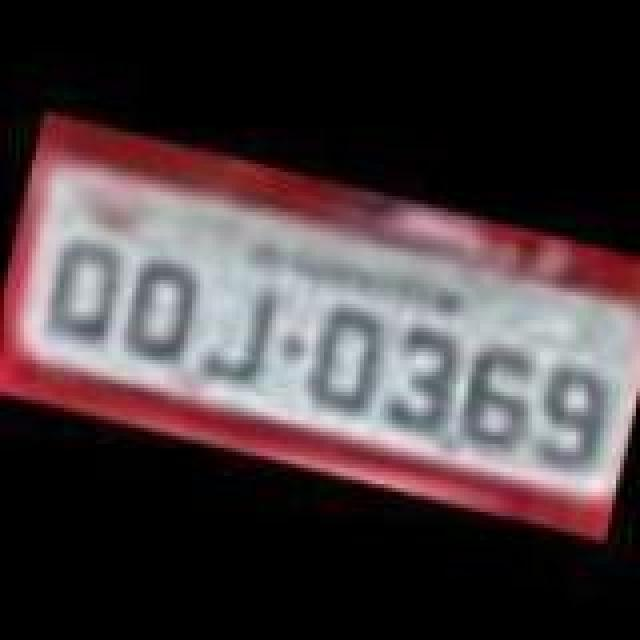3: (372, 308, 464, 436)
6: (444, 332, 544, 460)
9: (516, 342, 616, 478)
J: (186, 266, 286, 390)
O: (30, 228, 130, 348), (294, 294, 390, 418), (108, 250, 204, 366)
